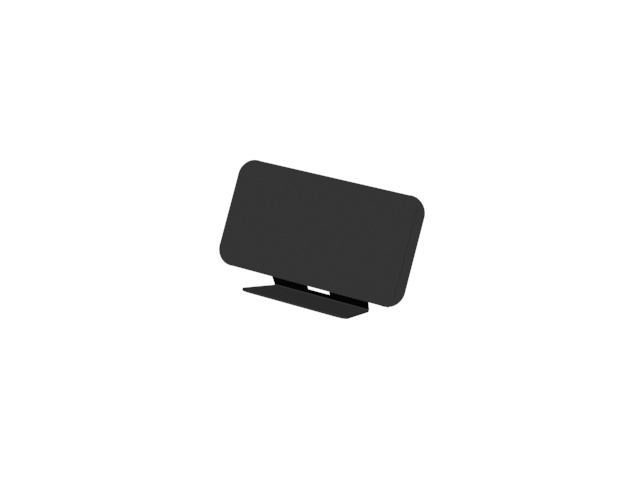monitor: (217, 154, 432, 320)
